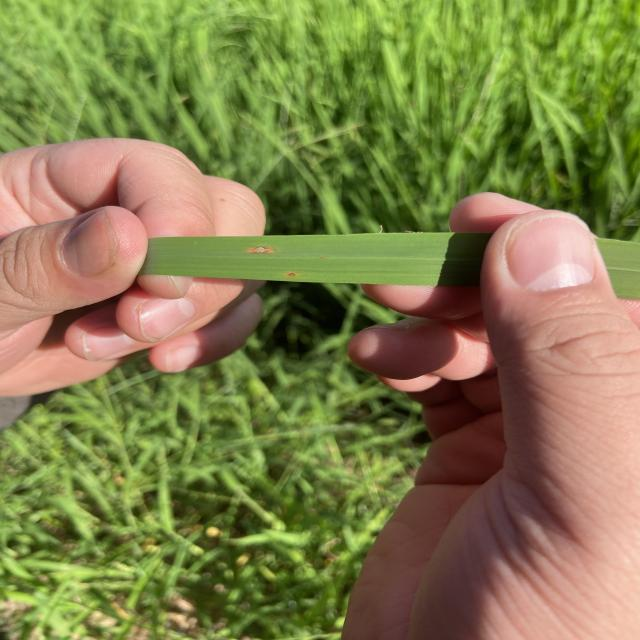Dao on: (249, 247, 272, 253), (288, 273, 295, 276)
